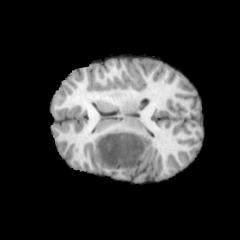glioma: (95, 130, 151, 169)
